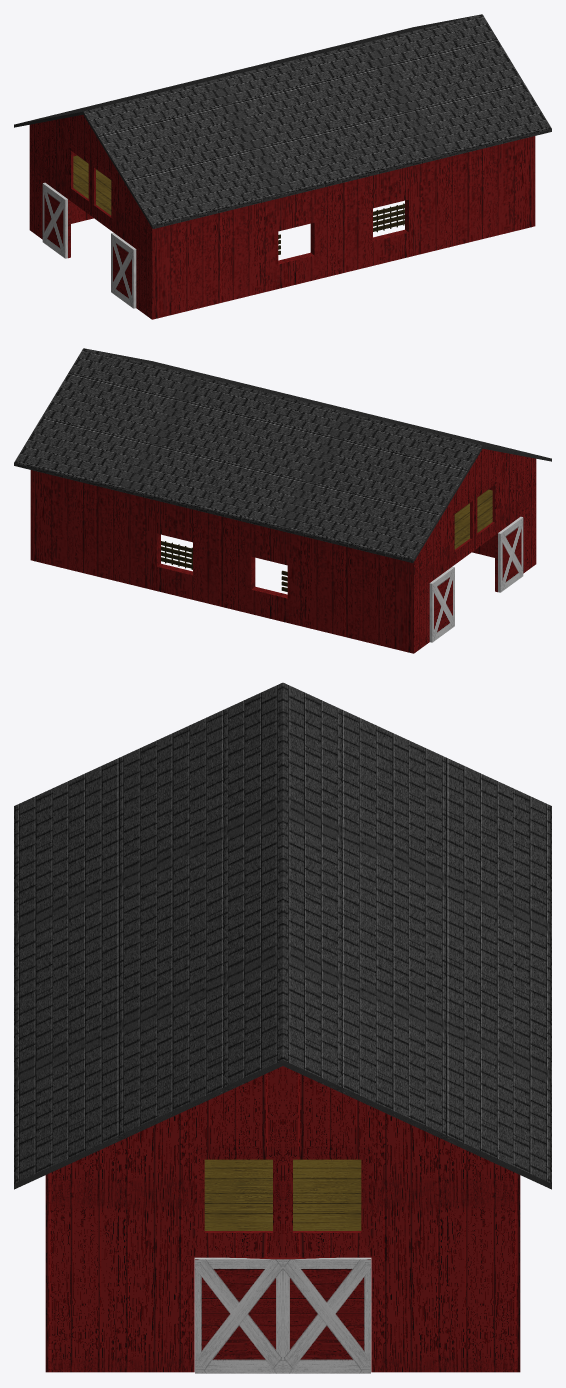
Rendered from Barn.fbx.
3 views of the same model, one above another, from view 1: azimuth 30°, elevation 25°; view 2: azimuth 150°, elevation 25°; view 3: azimuth 270°, elevation 25° (orthographic). The views are drawn at different scales.
Visible parts, largest first — view 1: Ceiling, walls, Cube.023, Cube.025, Cube.001, Cube.004; view 2: Ceiling, walls, Cube.023, Cube.025, Cube.001, Cube.013; view 3: Ceiling, Cube.023, Cube.024, Cube.001.
Boxes of the visible parts, left/top/right/bottom form: Ceiling: left=14, top=14, right=551, bottom=228; walls: left=71, top=136, right=532, bottom=318; Cube.023: left=29, top=115, right=535, bottom=319; Cube.025: left=42, top=182, right=136, bottom=308; Cube.001: left=73, top=155, right=111, bottom=215; Cube.004: left=373, top=204, right=404, bottom=231; Ceiling: left=14, top=348, right=551, bottom=562; walls: left=33, top=470, right=494, bottom=652; Cube.023: left=30, top=449, right=536, bottom=653; Cube.025: left=429, top=516, right=523, bottom=642; Cube.001: left=454, top=489, right=492, bottom=549; Cube.013: left=161, top=541, right=192, bottom=568; Ceiling: left=14, top=682, right=551, bottom=1189; Cube.023: left=45, top=1066, right=520, bottom=1372; Cube.024: left=195, top=1257, right=370, bottom=1373; Cube.001: left=204, top=1159, right=361, bottom=1230.
Bounding box in the file's own units: 2247 × 889 × 1353.
Materials: 5 (5 with a texture image).
